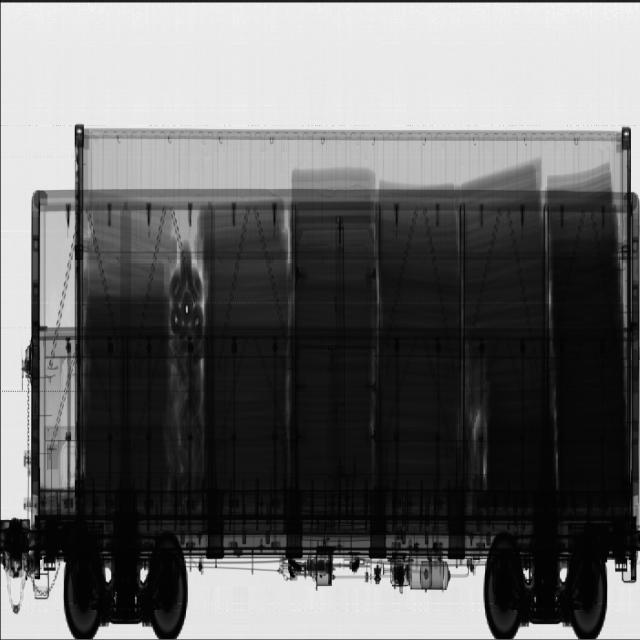fabrics: (80, 157, 630, 489)
